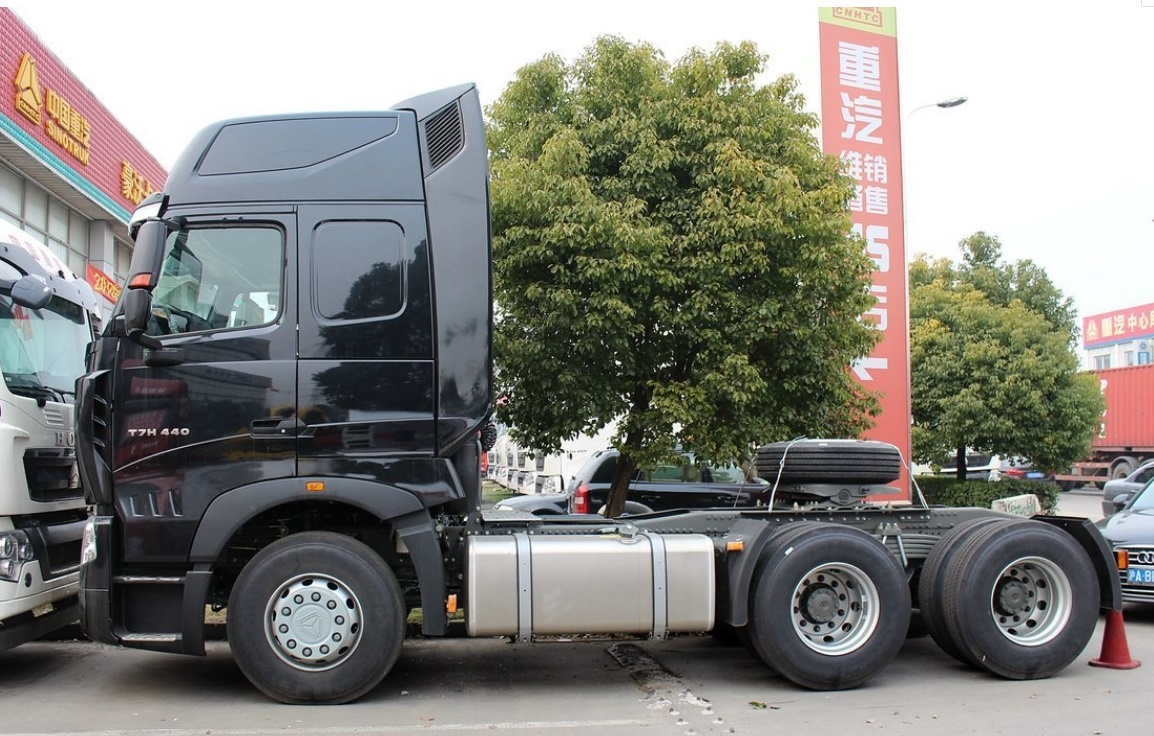heavy truck: (76, 76, 1127, 690)
